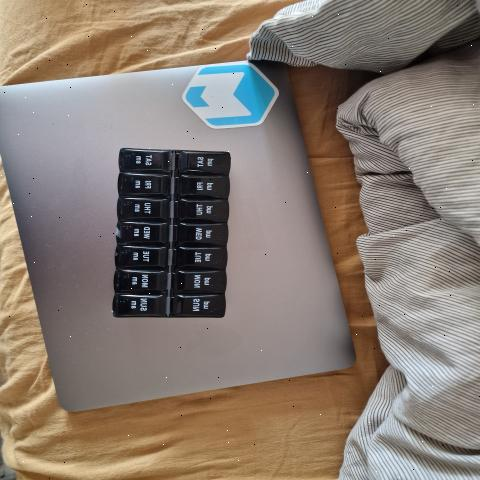FRI-am: (121, 175, 169, 193)
FRI-pm: (177, 176, 231, 195)
MON-am: (116, 268, 168, 291)
MON-pm: (172, 271, 230, 292)
SAT-am: (120, 150, 169, 172)
SAT-pm: (177, 153, 228, 174)
SUN-am: (120, 289, 169, 317)
SUN-pm: (176, 293, 228, 317)
THU-am: (120, 195, 169, 219)
THU-pm: (176, 201, 229, 221)
TUE-am: (115, 245, 169, 267)
TUE-pm: (173, 246, 229, 269)
WED-am: (118, 221, 170, 245)
WED-pm: (174, 222, 231, 244)
